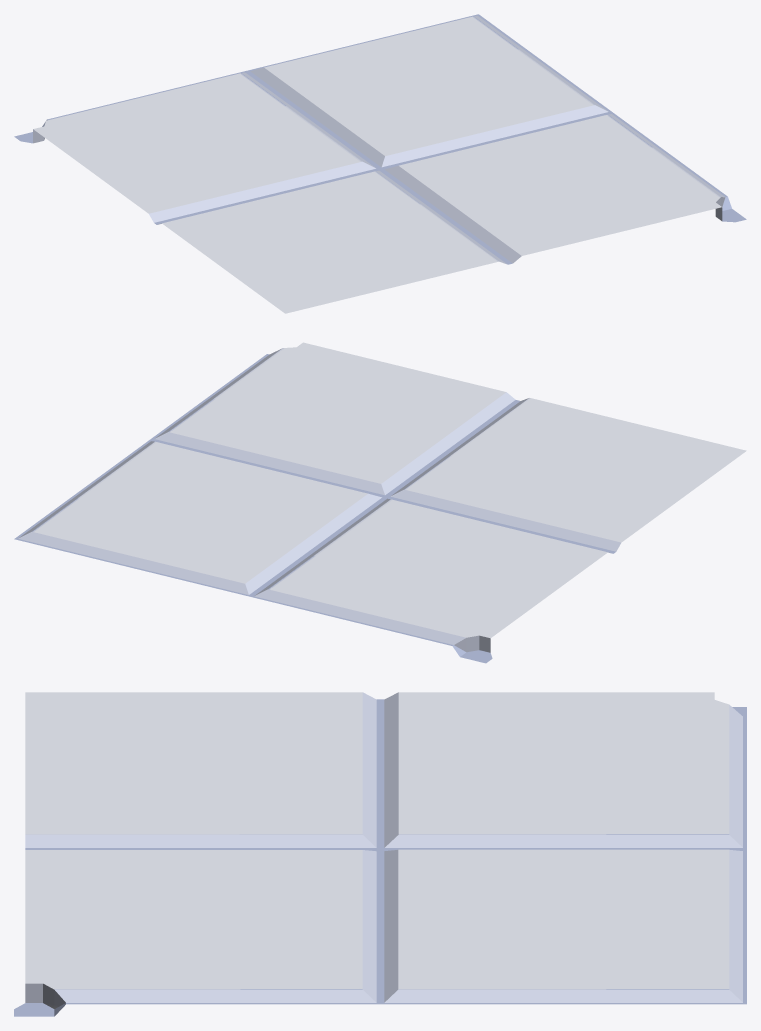
Rendered from TIle_Floor_Corner_In.fbx.
3 renders of one model, top to bottom at view 1: azimuth 30°, elevation 25°; view 2: azimuth 150°, elevation 25°; view 3: azimuth 270°, elevation 25°, orthographic. The views are drawn at different scales.
Parts seen in each view (by area): view 1: TIle_Floor_CornerIn; view 2: TIle_Floor_CornerIn; view 3: TIle_Floor_CornerIn.
Boxes of the visible parts, <box> form: TIle_Floor_CornerIn: <box>14,14,746,313</box>; TIle_Floor_CornerIn: <box>14,342,746,663</box>; TIle_Floor_CornerIn: <box>14,692,746,1016</box>.
Bounding box in the file's own units: 200 × 5.9 × 200.
1 material, 1 textured.
